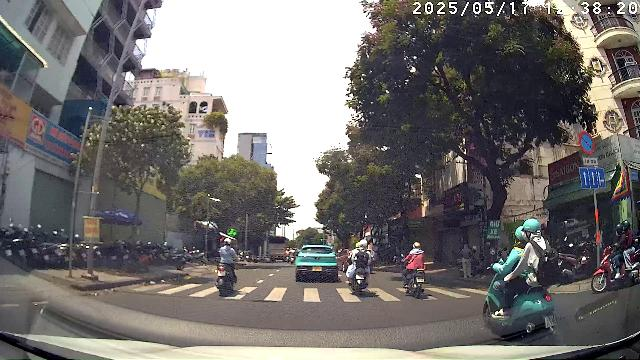131a-cam-do-xe: (578, 131, 594, 155)
